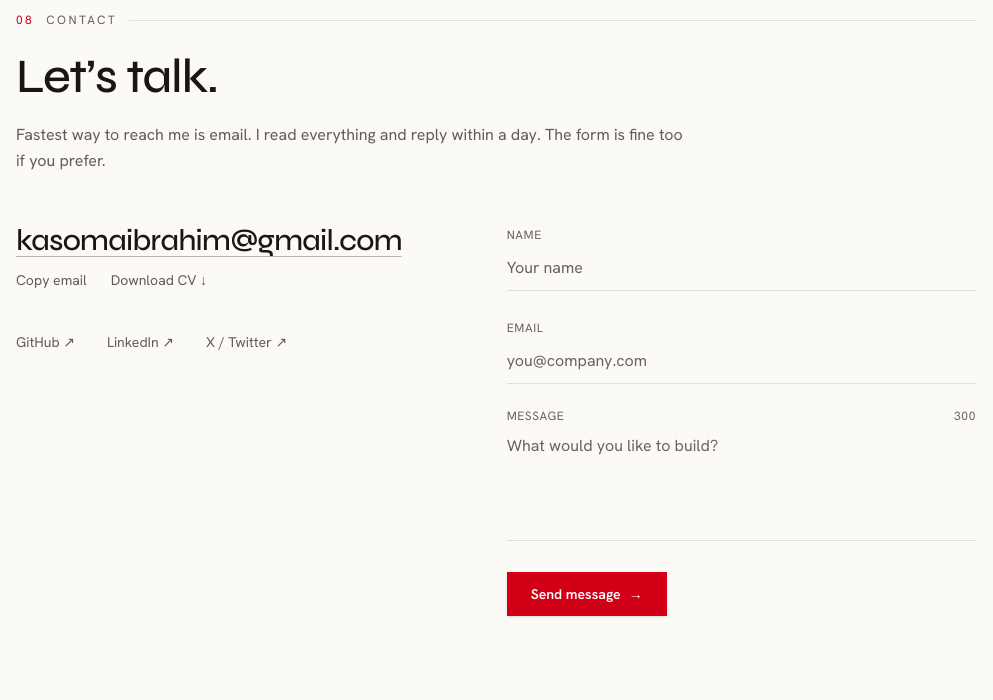
Test: Contact form › flags an invalid email
The image size is (993, 700).
Type "nope" into the field with placeholder "you@company.com". click: (741, 362)
box: x1=507 y1=339 x2=976 y2=384
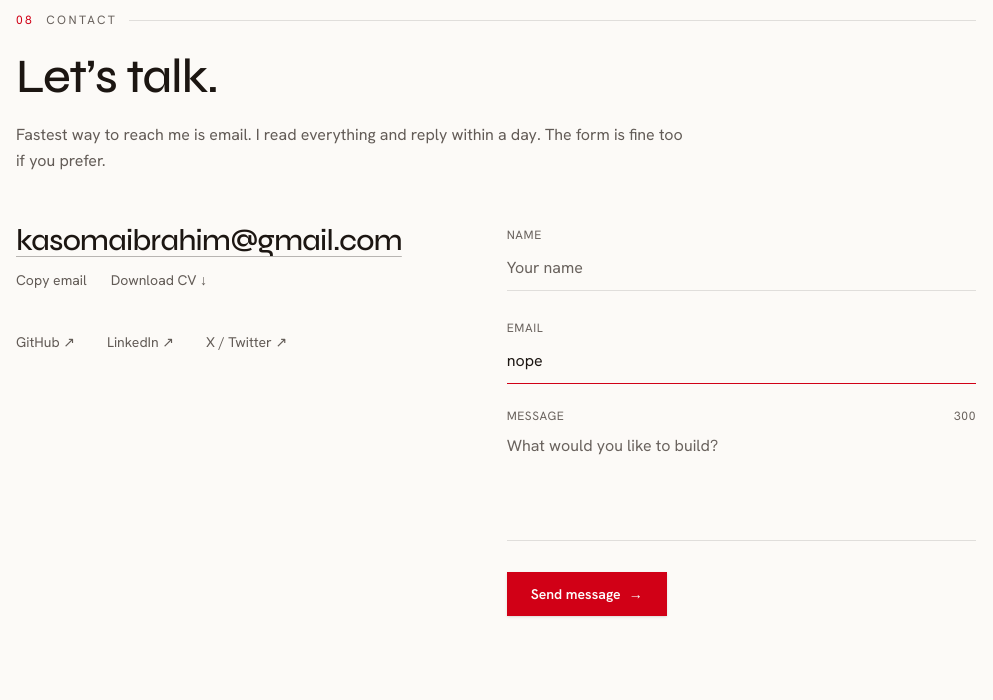
Click the button "Send message →". click: click(587, 594)
box: x1=507 y1=572 x2=667 y2=616
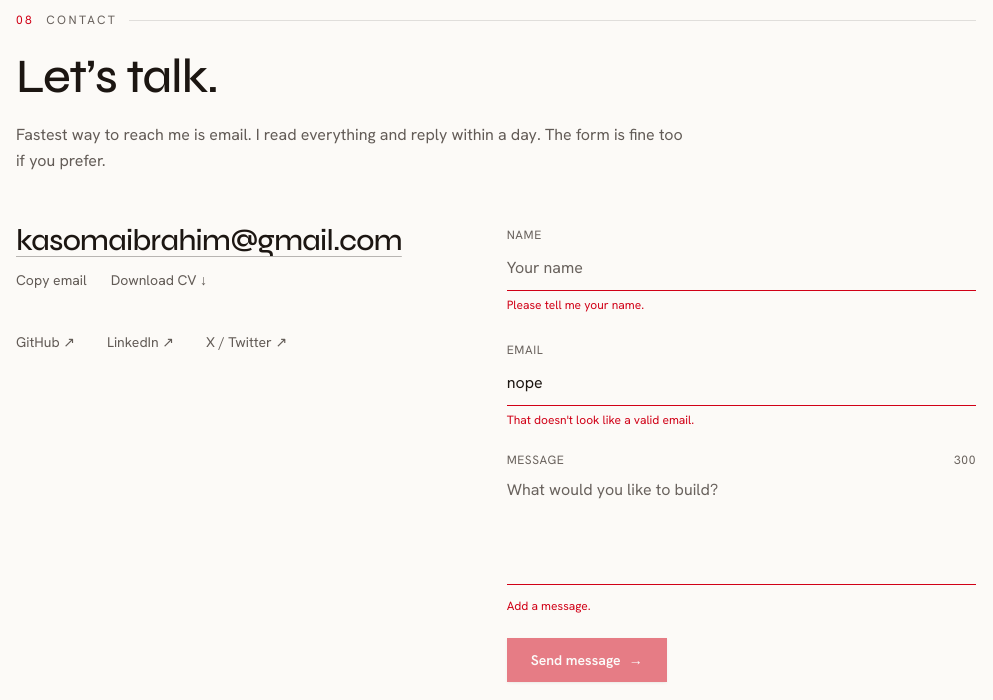
Result: the text "That doesn't look like a valid email." is shown at x1=507 y1=412 x2=694 y2=428
